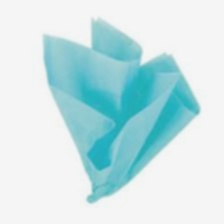tissue: (38, 13, 205, 205)
